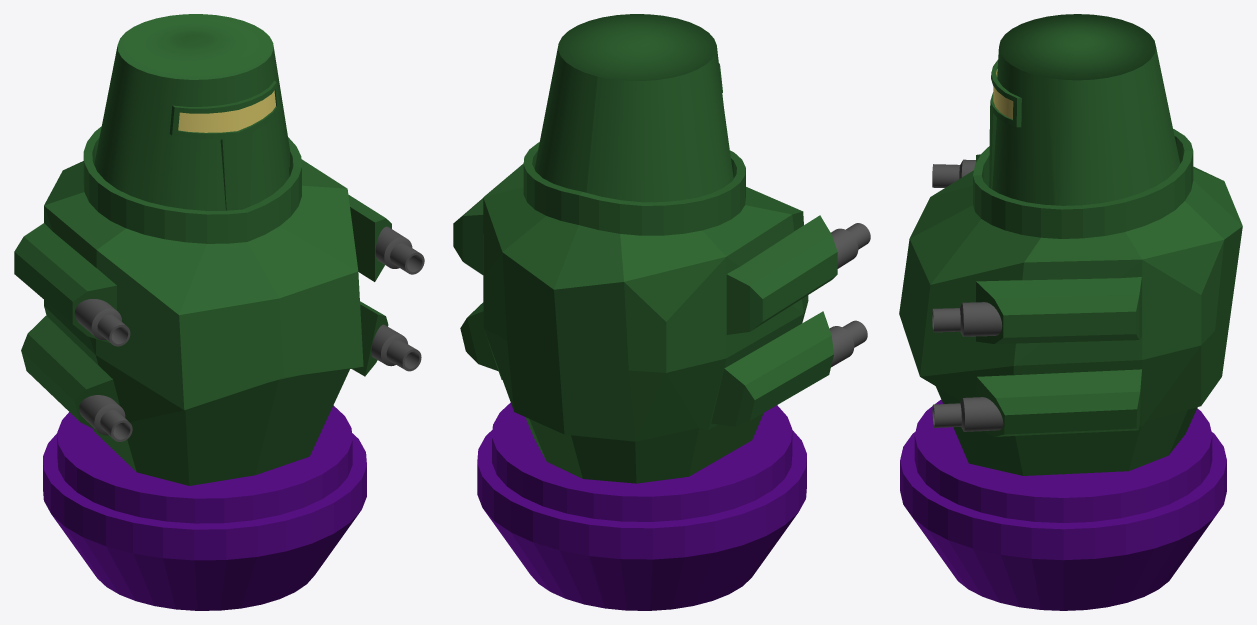
File: soldier.glb
The picture shows the model from 3 angles, left to right: view 1: azimuth 30°, elevation 25°; view 2: azimuth 150°, elevation 25°; view 3: azimuth 270°, elevation 25°; orthographic projection.
Visible parts, largest first — view 1: Cylinder.004; view 2: Cylinder.004; view 3: Cylinder.004.
Part boxes in pixels (x1,y1,x2,y2): Cylinder.004: (14, 14, 424, 610); Cylinder.004: (453, 14, 870, 610); Cylinder.004: (899, 14, 1242, 610).
Size of the model in its own units: 1.96 by 3.03 by 1.81.
